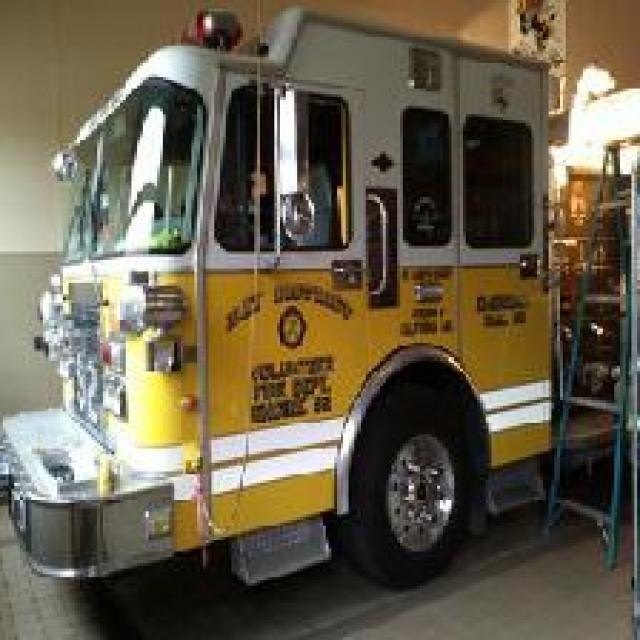Fire-truck: (39, 44, 550, 625)
